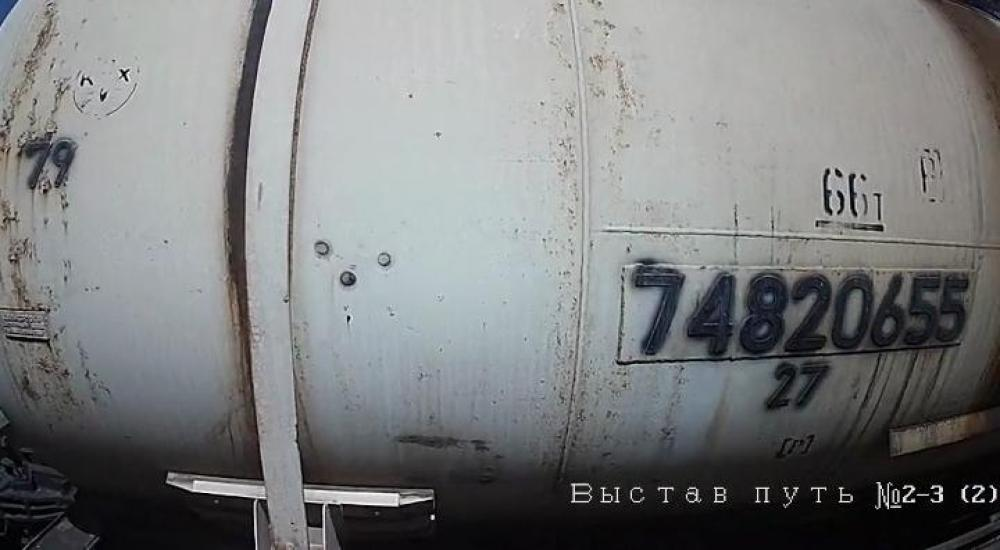Wagon-number: (625, 266, 972, 360)
